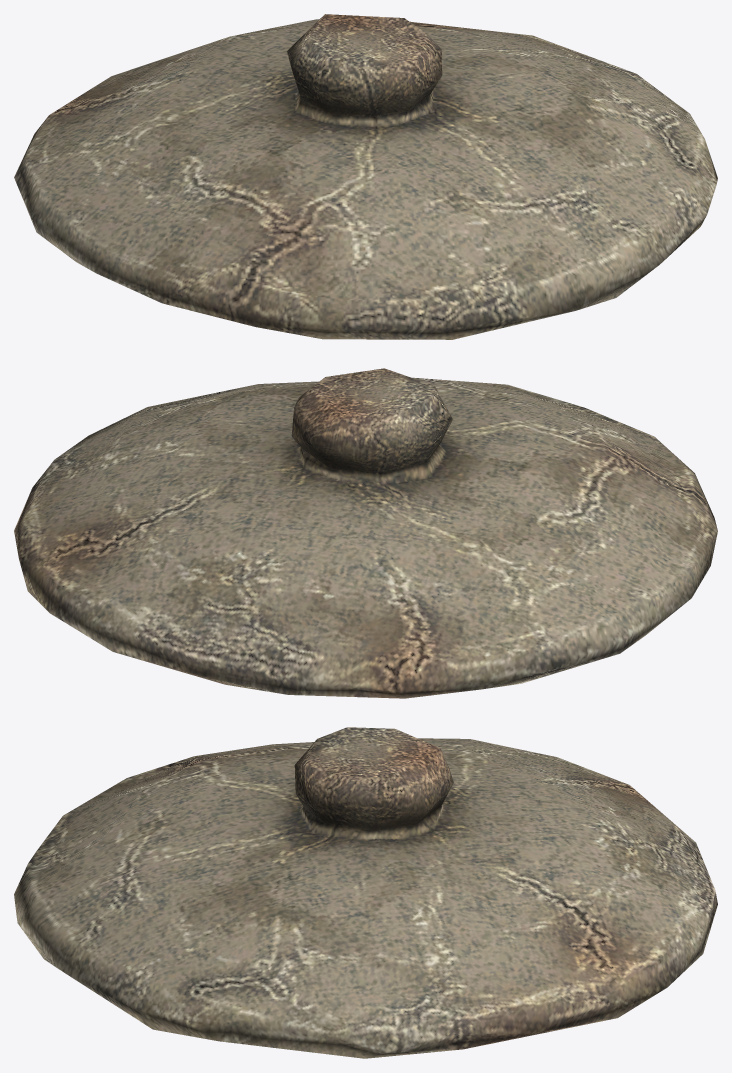
File: pottery_basic_lid_small.dae
The picture shows the model from 3 angles, top to bottom: view 1: azimuth 30°, elevation 25°; view 2: azimuth 150°, elevation 25°; view 3: azimuth 270°, elevation 25°; orthographic projection.
Parts seen in each view (by area): view 1: pottery_lid; view 2: pottery_lid; view 3: pottery_lid.
Part boxes in pixels (x1=…): pottery_lid: x1=14, y1=14, x2=717, y2=339; pottery_lid: x1=14, y1=368, x2=717, y2=698; pottery_lid: x1=14, y1=727, x2=717, y2=1058.
Bounding box in the file's own units: 0.3029 × 0.0805 × 0.3067.
